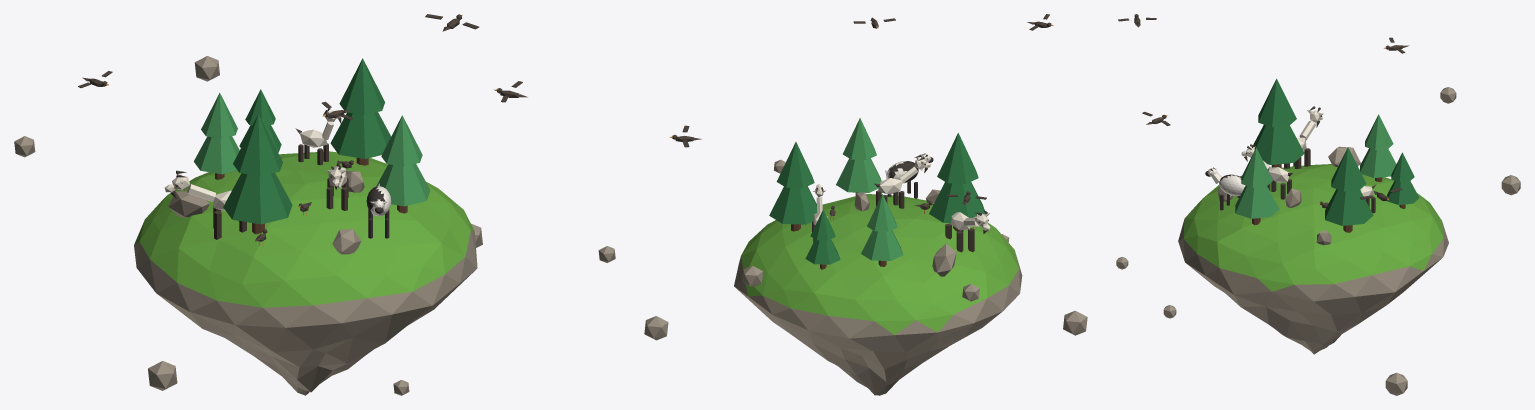
The model's file is island.glb.
3 views of the same model, side by side, from view 1: azimuth 30°, elevation 25°; view 2: azimuth 150°, elevation 25°; view 3: azimuth 270°, elevation 25° (orthographic). The views are drawn at different scales.
Parts seen in each view (by area): view 1: Island, Canopy, Canopy.004, Canopy.001, Canopy.002, Canopy.005, Canopy.006, Canopy.003, Canopy.007, Rock, Debris.003, Head_Goat_1 (+2 smaller); view 2: Island, Canopy, Canopy.004, Canopy.001, Canopy.002, Canopy.005, Canopy.006, Canopy.003, Canopy.008, Canopy.007, Rock, Debris.003 (+3 smaller); view 3: Island, Canopy, Canopy.004, Canopy.002, Canopy.001, Canopy.005, Canopy.006, Canopy.003, Canopy.007, Canopy.008, Cow_1, Canopy.009 (+2 smaller).
Boxes of the visible parts, x1,y1,x2,y2 form: Island: (134, 151, 477, 395); Canopy: (223, 173, 292, 224); Canopy.004: (330, 112, 391, 158); Canopy.001: (233, 114, 282, 176); Canopy.002: (376, 164, 430, 206); Canopy.005: (339, 58, 384, 115); Canopy.006: (194, 136, 239, 174); Canopy.003: (381, 115, 422, 166); Canopy.007: (201, 93, 237, 138); Rock: (168, 191, 209, 217); Debris.003: (148, 361, 177, 390); Head_Goat_1: (164, 170, 215, 201); Island: (734, 194, 1022, 395); Canopy: (929, 182, 984, 222); Canopy.004: (769, 186, 816, 224); Canopy.001: (937, 133, 978, 183); Canopy.002: (836, 158, 881, 192); Canopy.005: (776, 142, 814, 188); Canopy.006: (861, 230, 903, 260); Canopy.003: (843, 118, 876, 159); Canopy.008: (805, 239, 840, 264); Canopy.007: (867, 194, 897, 231); Rock: (932, 244, 956, 276); Debris.003: (1063, 310, 1087, 335); Island: (1178, 164, 1448, 354); Canopy: (1251, 124, 1304, 164); Canopy.004: (1325, 189, 1373, 225); Canopy.002: (1235, 185, 1279, 218); Canopy.001: (1258, 78, 1296, 127); Canopy.005: (1331, 147, 1366, 191); Canopy.006: (1360, 148, 1396, 177); Canopy.003: (1241, 147, 1272, 187); Canopy.007: (1365, 114, 1393, 150); Canopy.008: (1387, 180, 1419, 204); Cow_1: (1219, 174, 1245, 197); Canopy.009: (1391, 152, 1414, 181).
Size of the model in its own units: 11.57 by 9.93 by 11.91.
